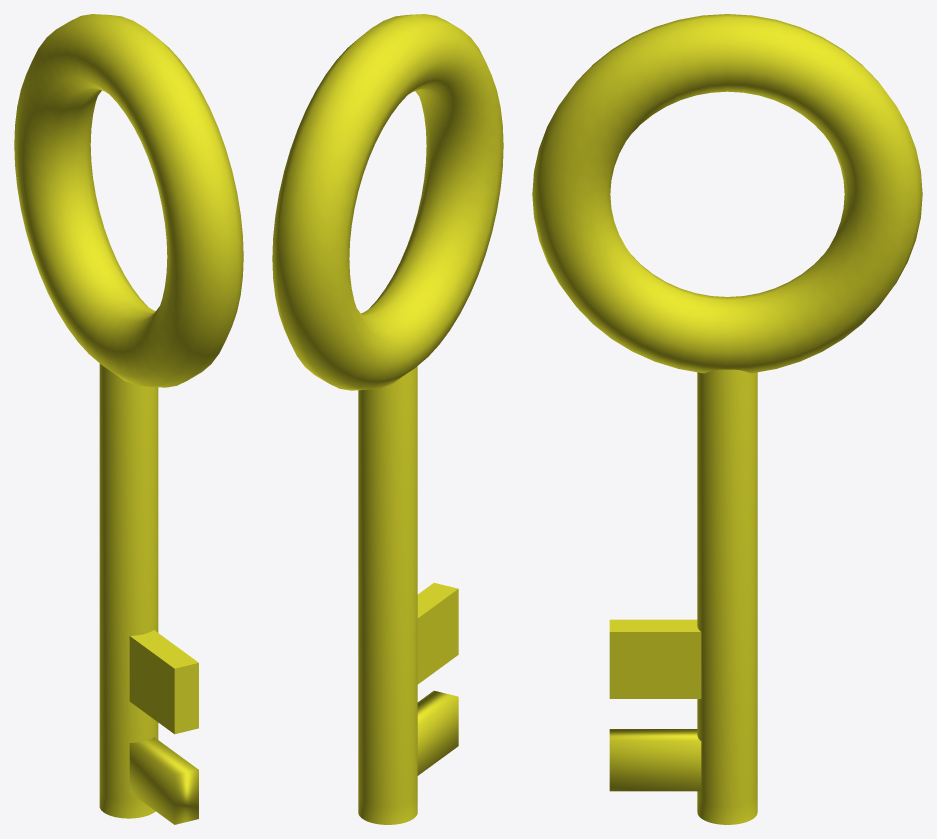
Rendered from Key.fbx.
3 renders of one model, left to right at view 1: azimuth 30°, elevation 25°; view 2: azimuth 150°, elevation 25°; view 3: azimuth 270°, elevation 25°, orthographic. The views are drawn at different scales.
Visible parts, largest first — view 1: Torus, Cylinder, Cube.001, Cube; view 2: Torus, Cylinder, Cube.001, Cube; view 3: Torus, Cylinder, Cube.001, Cube.
Boxes of the visible parts, <box> form: Torus: <box>14,14,243,387</box>; Cylinder: <box>99,363,158,818</box>; Cube.001: <box>129,630,198,734</box>; Cube: <box>129,737,198,824</box>; Torus: <box>272,14,503,390</box>; Cylinder: <box>358,366,417,824</box>; Cube.001: <box>417,583,458,684</box>; Cube: <box>417,690,458,775</box>; Torus: <box>532,14,922,373</box>; Cylinder: <box>697,369,757,824</box>; Cube.001: <box>609,619,701,698</box>; Cube: <box>609,729,701,791</box>.
Bounding box in the file's own units: 85.11 × 956 × 426.
